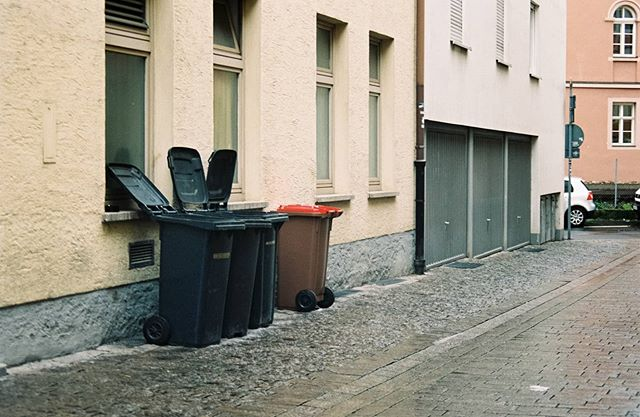building: (1, 1, 420, 417), (421, 1, 576, 277), (575, 1, 640, 206)
trash can: (273, 188, 345, 324), (160, 208, 232, 344), (231, 207, 270, 335), (252, 200, 282, 333)
